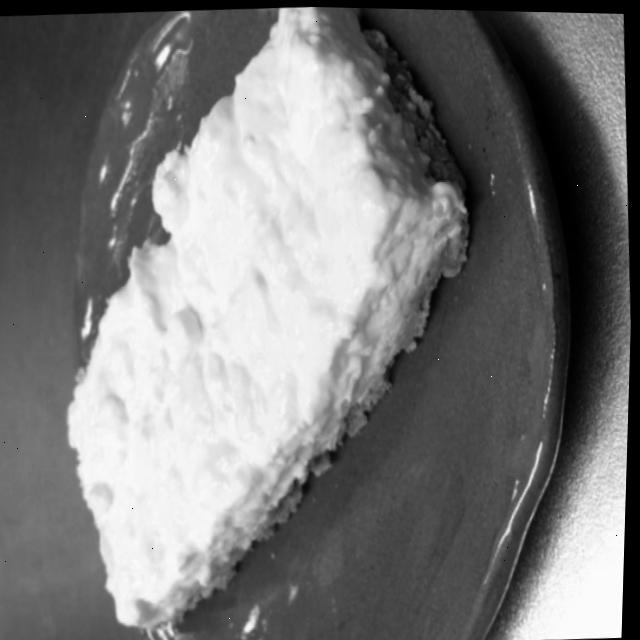刺身生食: (129, 14, 640, 572)
